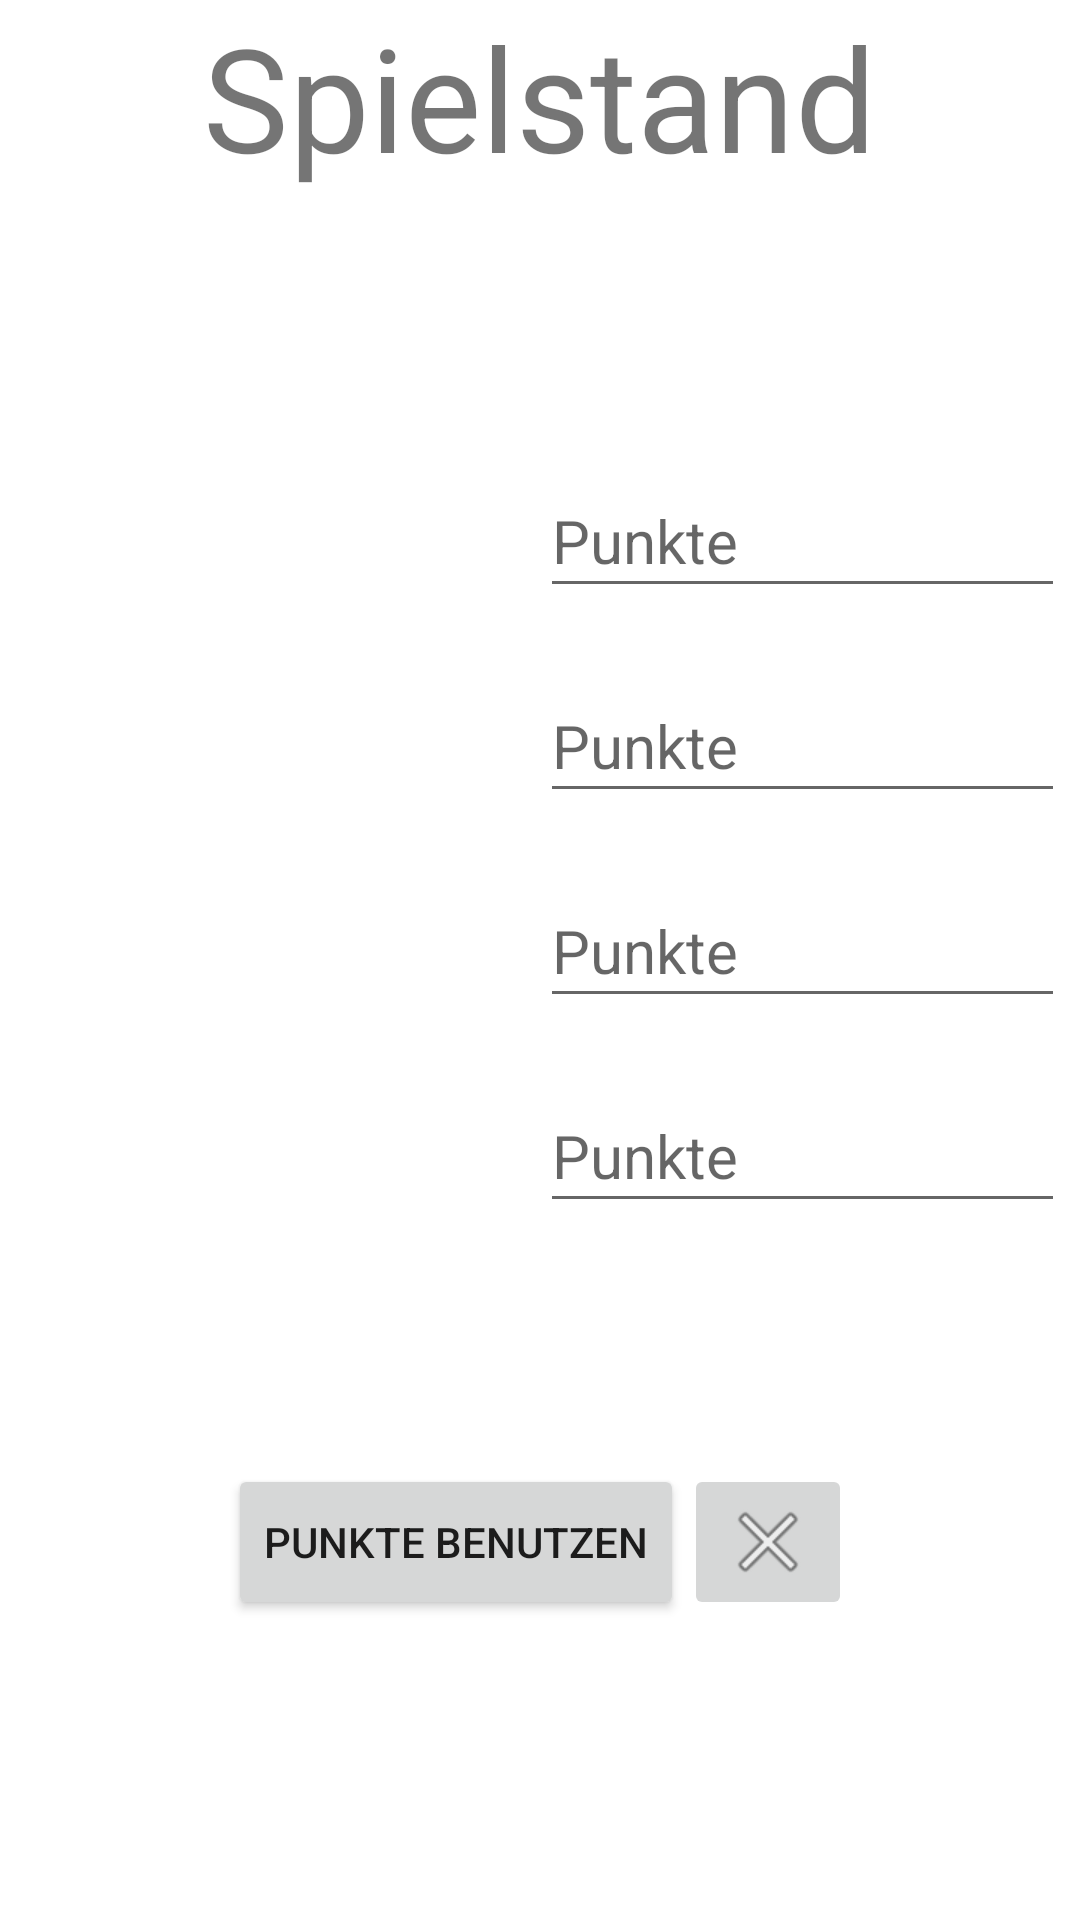

Icons on this 1080 x 1920 Android screen, each with its box as (x1, y1, x2, y2):
Eingabe verlassen: (696, 1482, 840, 1602)
